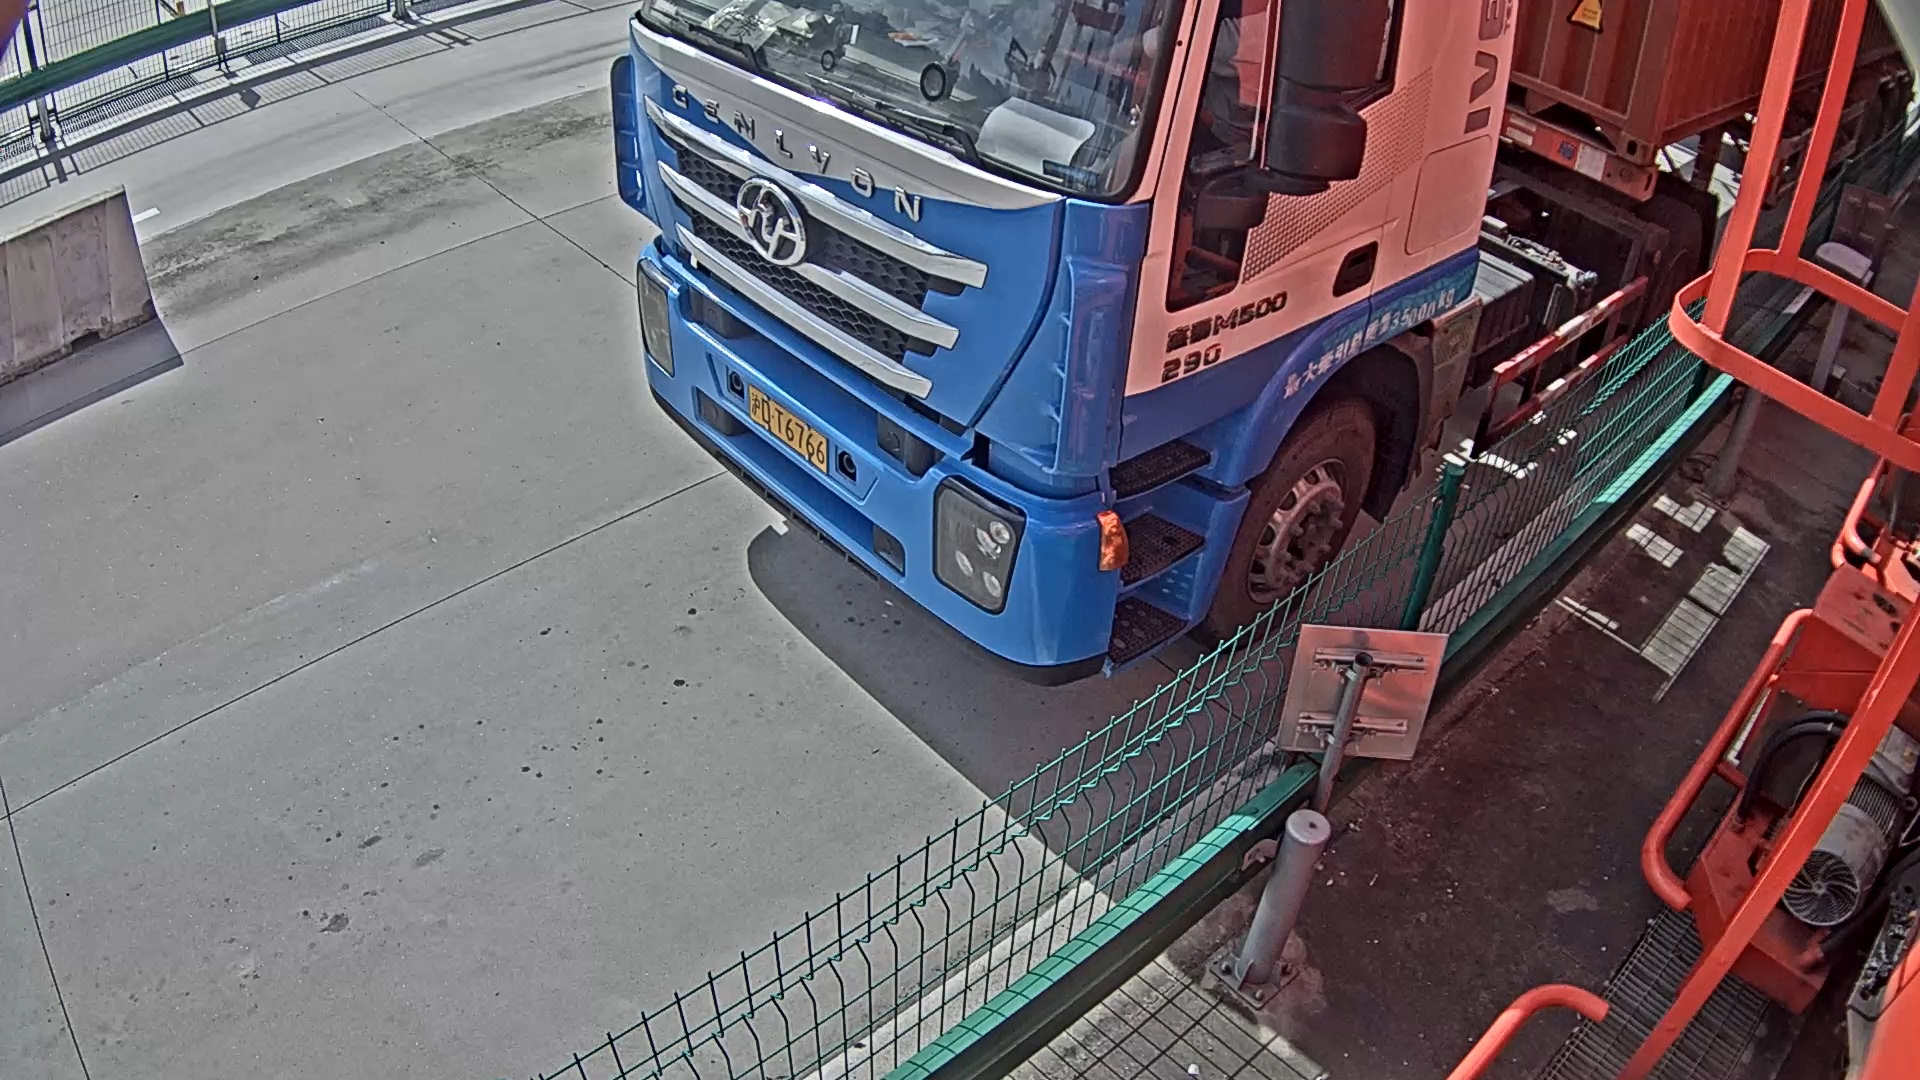head: (612, 1, 1521, 688)
plate: (744, 386, 835, 474)
